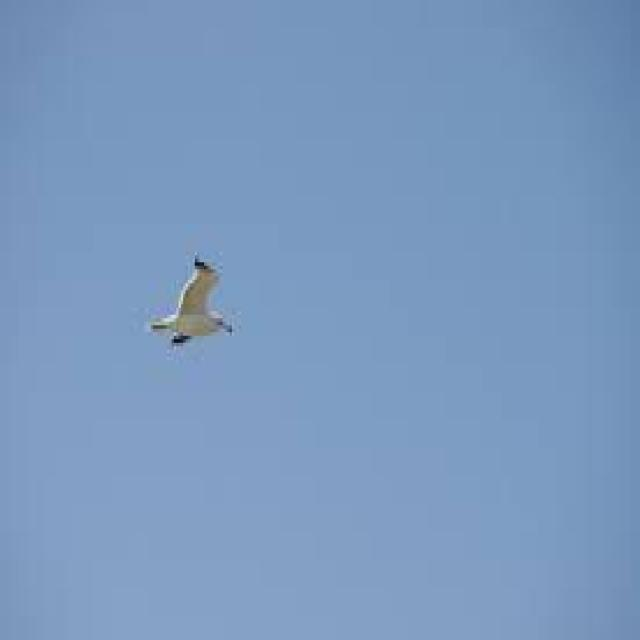bird: (148, 250, 244, 352)
